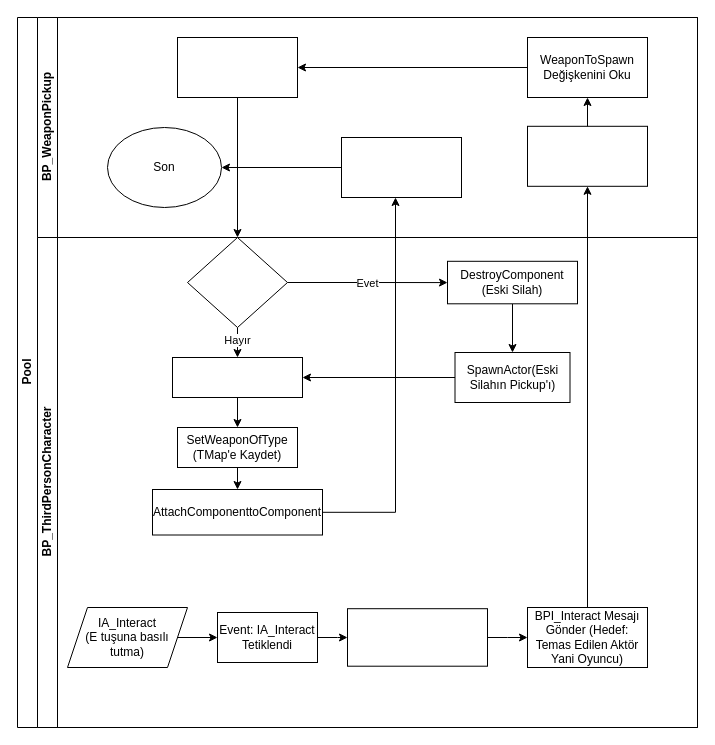
This 715x745 diagram has some shape labels left out. The centre of each missing label's shape, as x and y in pixels:
"AddComponentByClass (Yeni Silah Bileşeni)" belongs at (237,377).
"Destroy Actor(self)" belongs at (401,167).
"Elde Silahın aynısı Var Mı?" belongs at (237,282).
"Event: Interact Tetiklendi" belongs at (587,155).
"GetOverlappingActors (Filtre: BP_PickupMaster)" belongs at (417,637).
"Karakterdeki SpawnWeapon Fonksiyonunu Çağır" belongs at (237,67).
